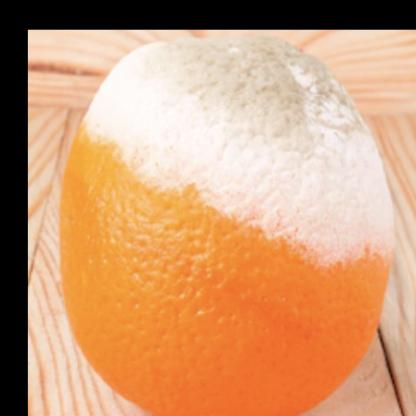rotten: (55, 31, 396, 416)
